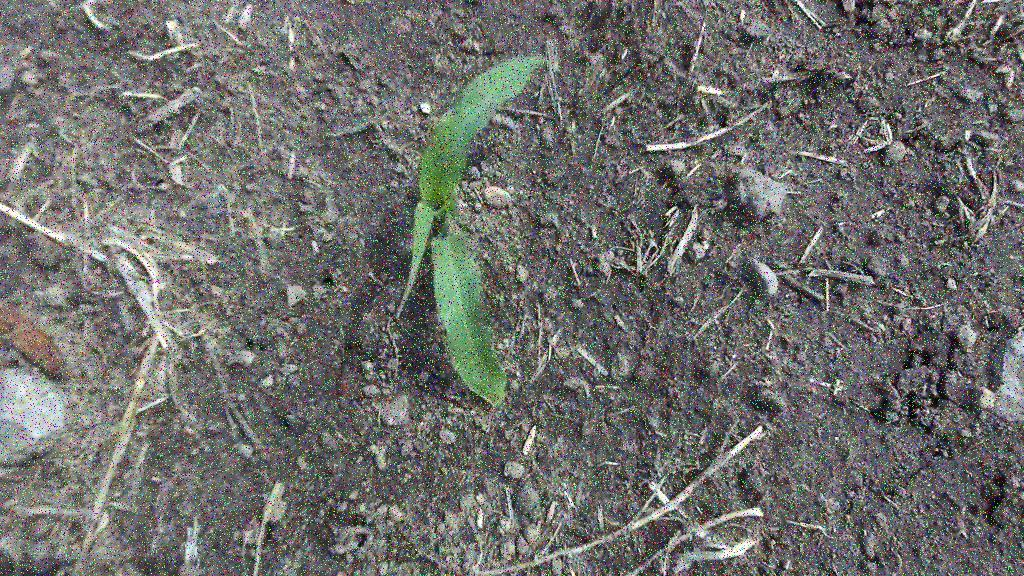BroWeed: (98, 10, 123, 34), (931, 13, 948, 45), (164, 48, 182, 64), (922, 7, 937, 15), (439, 546, 450, 553), (934, 238, 945, 245)
Maize: (388, 41, 549, 408)
